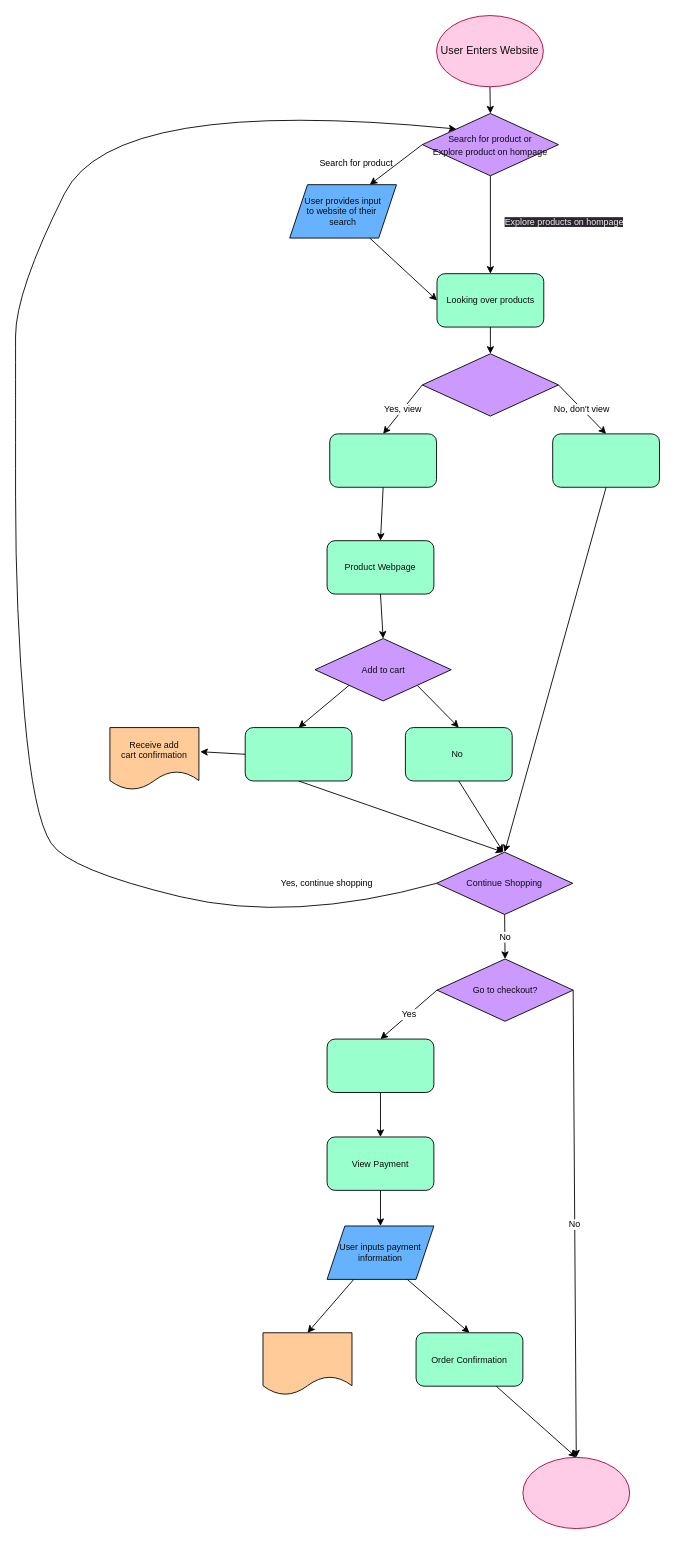
Some shapes in this 676 by 1544 pixel diagram are drawn without their labels. Here are the shapes that lost their labels. From the top down, the box of each, then its label:
(421, 353, 558, 416): View Specific Product
(329, 433, 437, 487): View Product
(552, 433, 659, 487): Don't view item
(244, 727, 352, 781): Yes, add to cart
(326, 1038, 434, 1092): View Cart
(262, 1332, 352, 1395): Receive email
(522, 1456, 630, 1529): User Leaves Website
